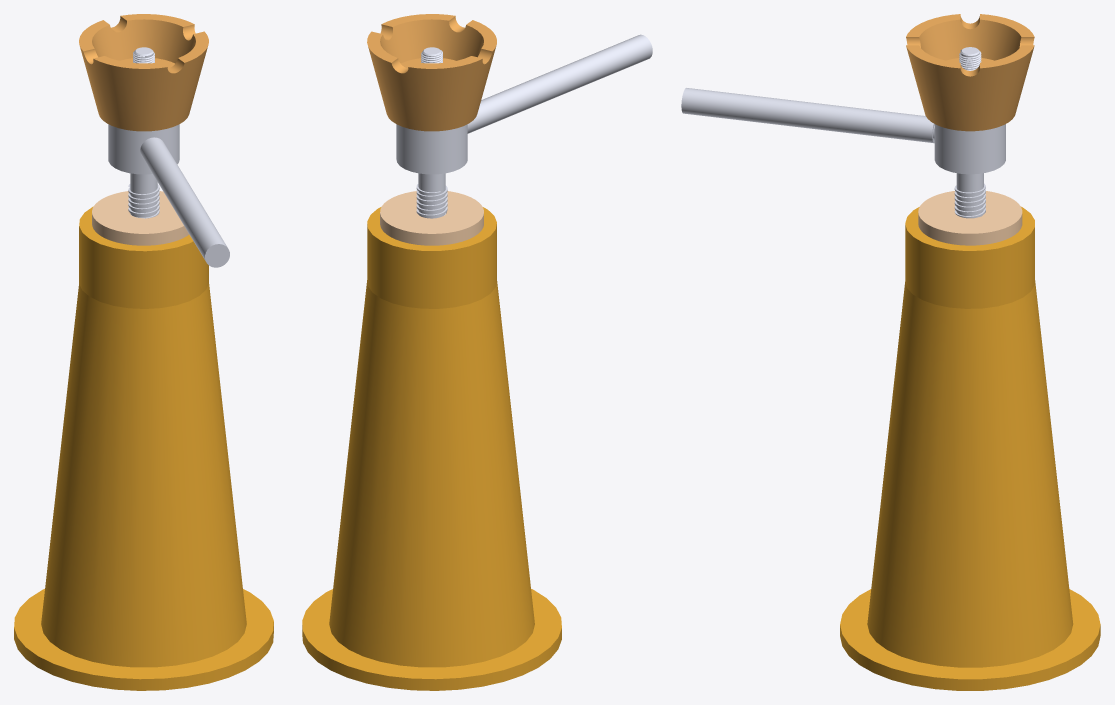
The model's file is screw_jack.gltf.
The picture shows the model from 3 angles, left to right: view 1: azimuth 30°, elevation 25°; view 2: azimuth 150°, elevation 25°; view 3: azimuth 270°, elevation 25°; orthographic projection.
Visible parts, largest first — view 1: Revolve1, CirPattern1, Cut-Extrude2, Boss-Extrude2, Thread1; view 2: Revolve1, CirPattern1, Boss-Extrude2, Cut-Extrude2, Thread1; view 3: Revolve1, CirPattern1, Boss-Extrude2, Cut-Extrude2, Thread1.
Boxes of the visible parts, x1,y1,x2,y2 form: Revolve1: (14, 206, 273, 690); CirPattern1: (79, 14, 208, 131); Cut-Extrude2: (108, 47, 179, 218); Boss-Extrude2: (140, 137, 229, 267); Thread1: (92, 191, 189, 245); Revolve1: (302, 207, 561, 690); CirPattern1: (367, 14, 496, 131); Boss-Extrude2: (467, 34, 652, 133); Cut-Extrude2: (396, 47, 467, 218); Thread1: (380, 191, 483, 245); Revolve1: (840, 206, 1100, 690); CirPattern1: (906, 14, 1034, 131); Boss-Extrude2: (681, 88, 934, 143); Cut-Extrude2: (934, 47, 1005, 218); Thread1: (918, 191, 1022, 245).
Size of the model in its own units: 0.3983 by 1.01 by 0.6436.
